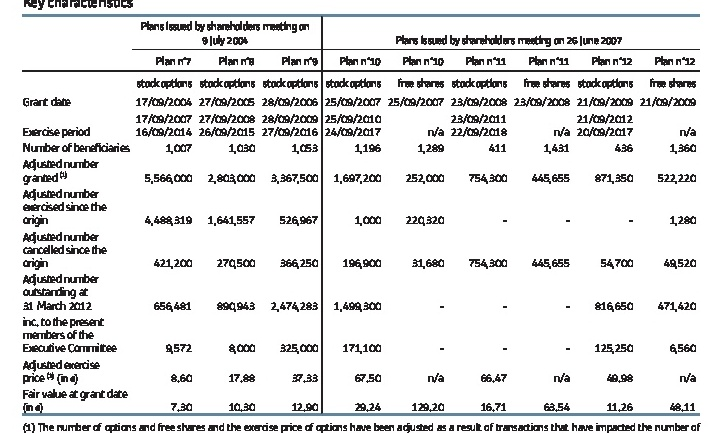table: (0, 0, 719, 433)
